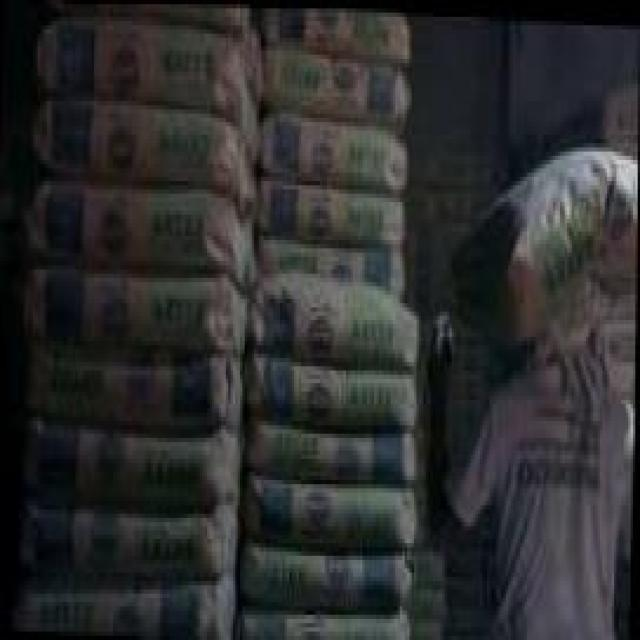gunny_bag: (43, 26, 259, 153), (42, 98, 251, 220), (35, 180, 251, 283), (34, 270, 249, 356), (40, 339, 245, 429), (29, 418, 244, 500), (23, 504, 240, 577), (26, 575, 243, 640), (256, 351, 409, 435), (259, 475, 409, 554), (249, 414, 403, 485), (271, 45, 400, 124), (271, 112, 395, 193), (259, 544, 405, 609), (267, 177, 394, 251), (253, 274, 417, 327), (267, 6, 408, 52), (613, 79, 639, 131), (611, 352, 637, 387)
